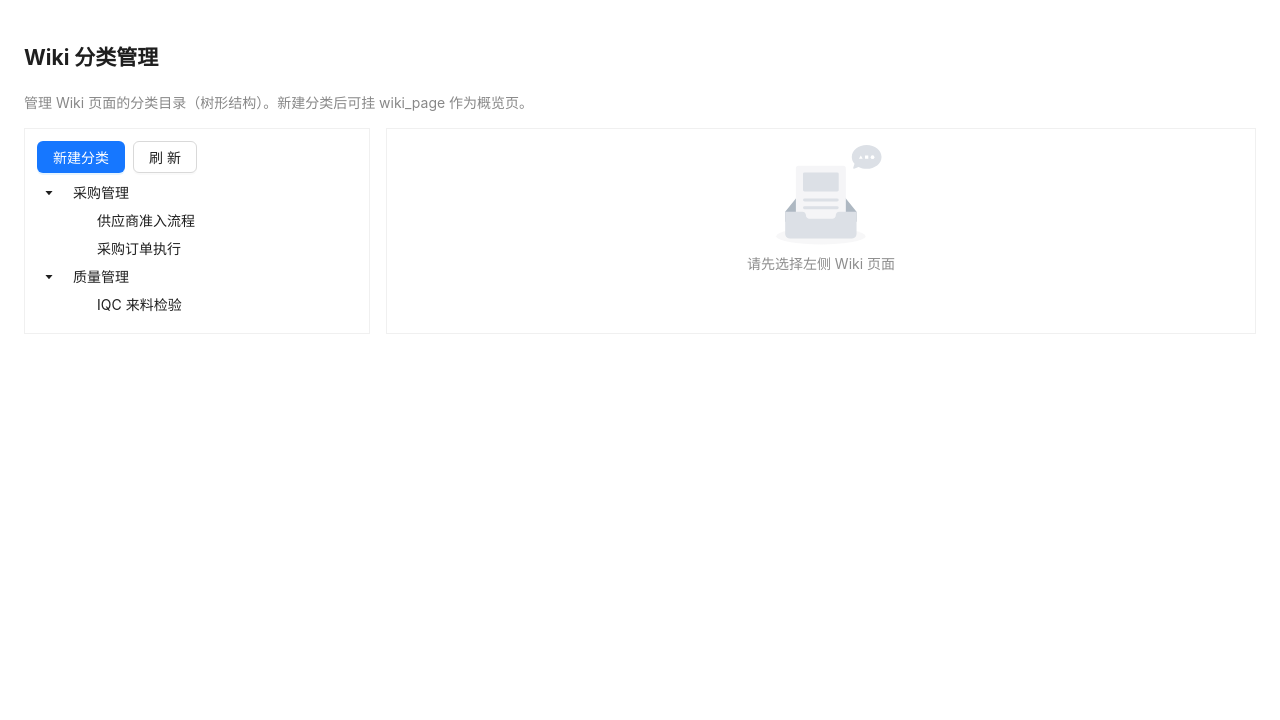
AdminWikiCategoriesPage › surfaces a page-level alert when createWikiCategory rejects
This screenshot has width=1280, height=720.
Click the button "新建分类" at (81, 157), box [37,141,125,173]
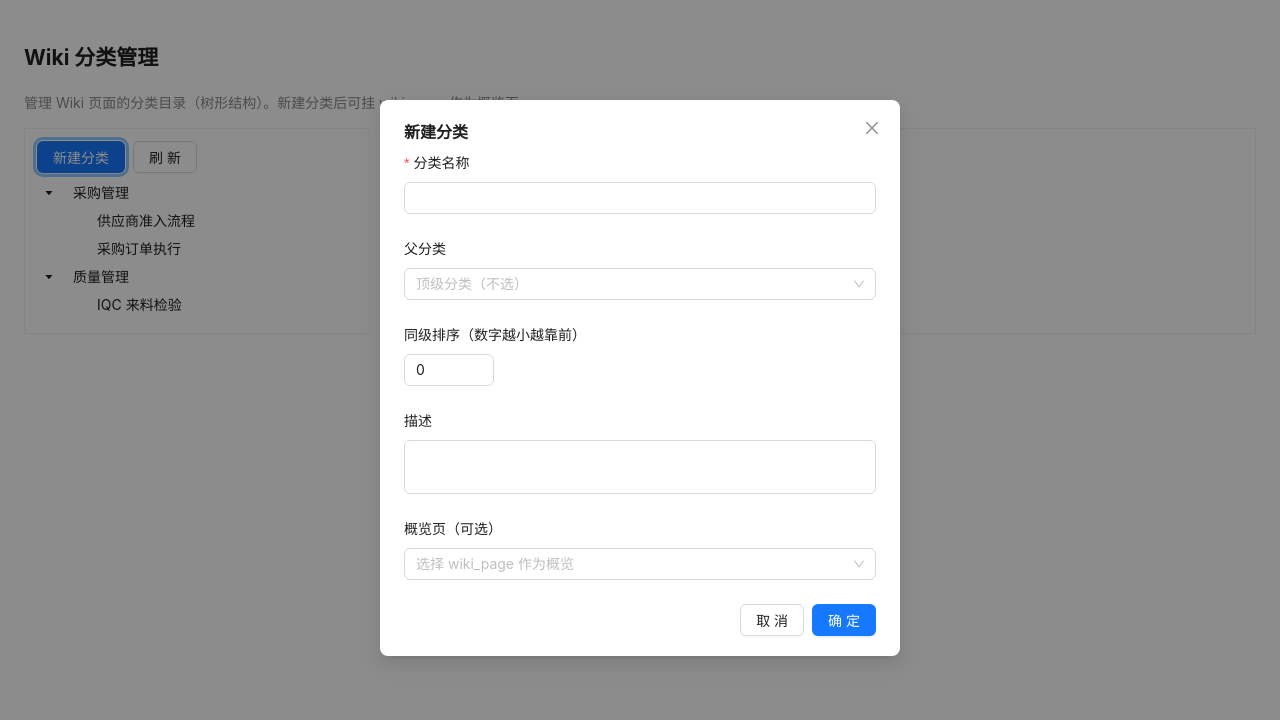
Type "x" into the field labelled "分类名称" at (640, 198), box [404,182,876,214]
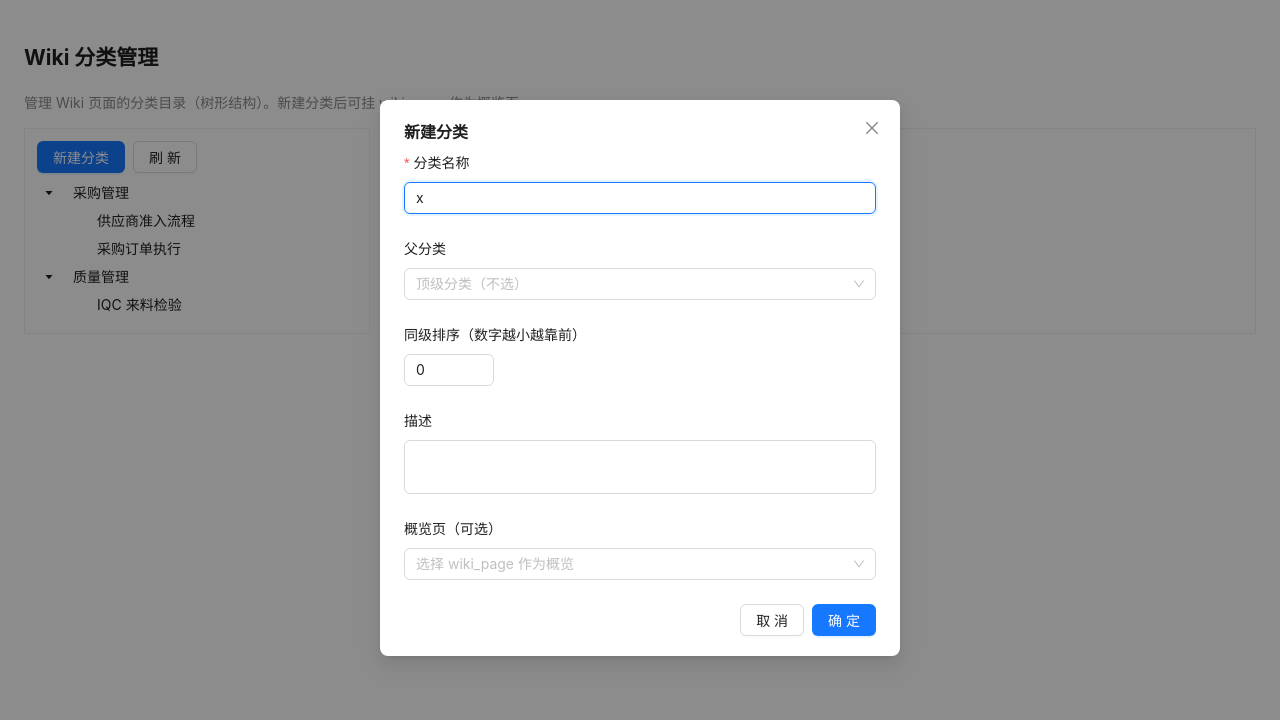
Click the button "确 定" at (844, 620), box [812,604,876,636]
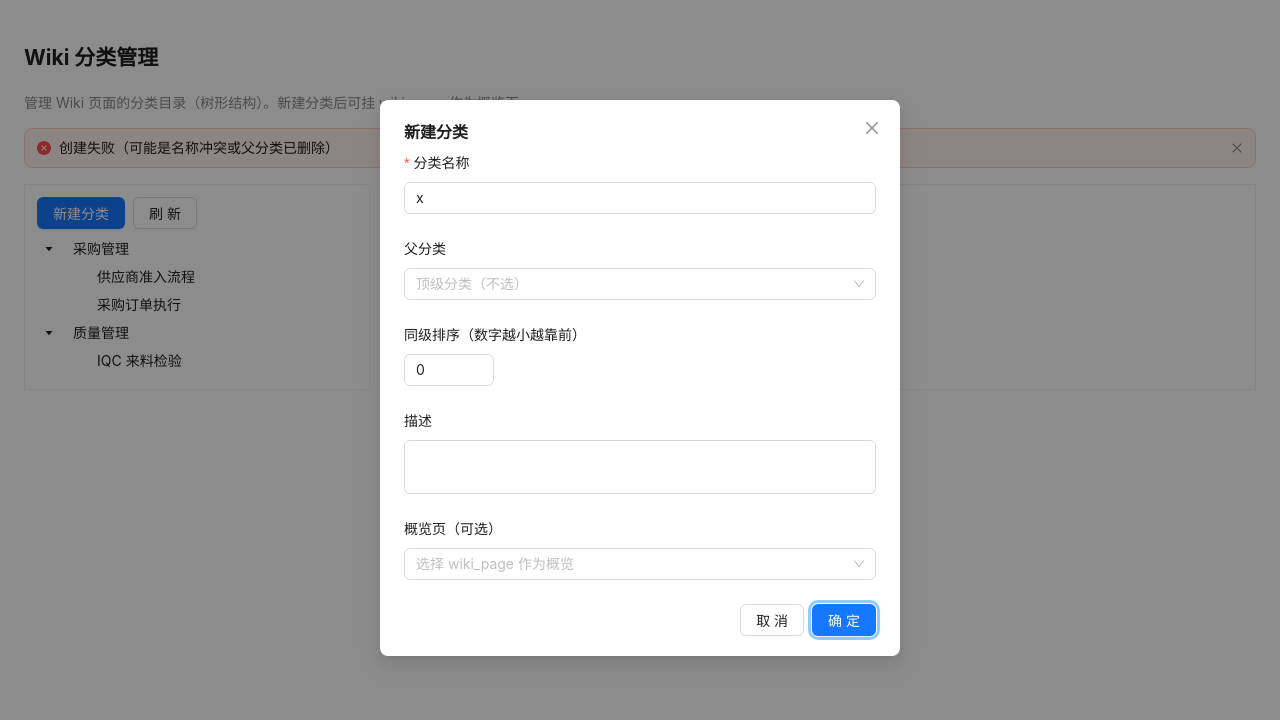
expect the text "创建失败（可能是名称冲突或父分类已删除）" is shown: met, box [59,139,339,156]
